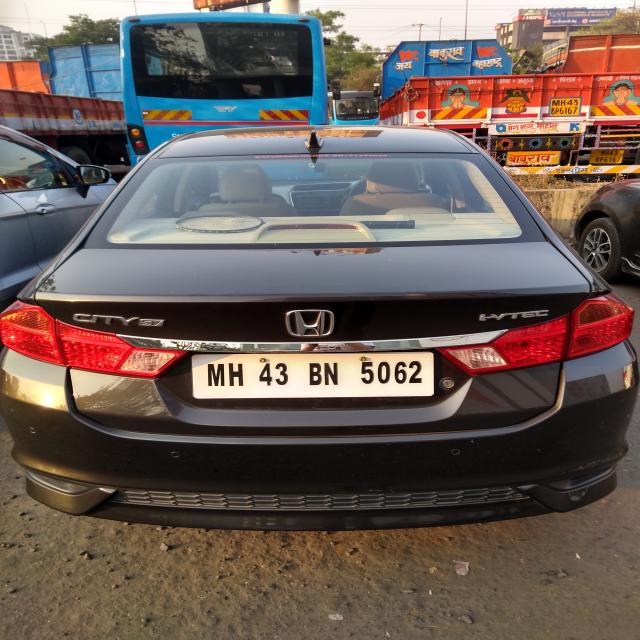Number-Plate: (197, 352, 439, 396)
